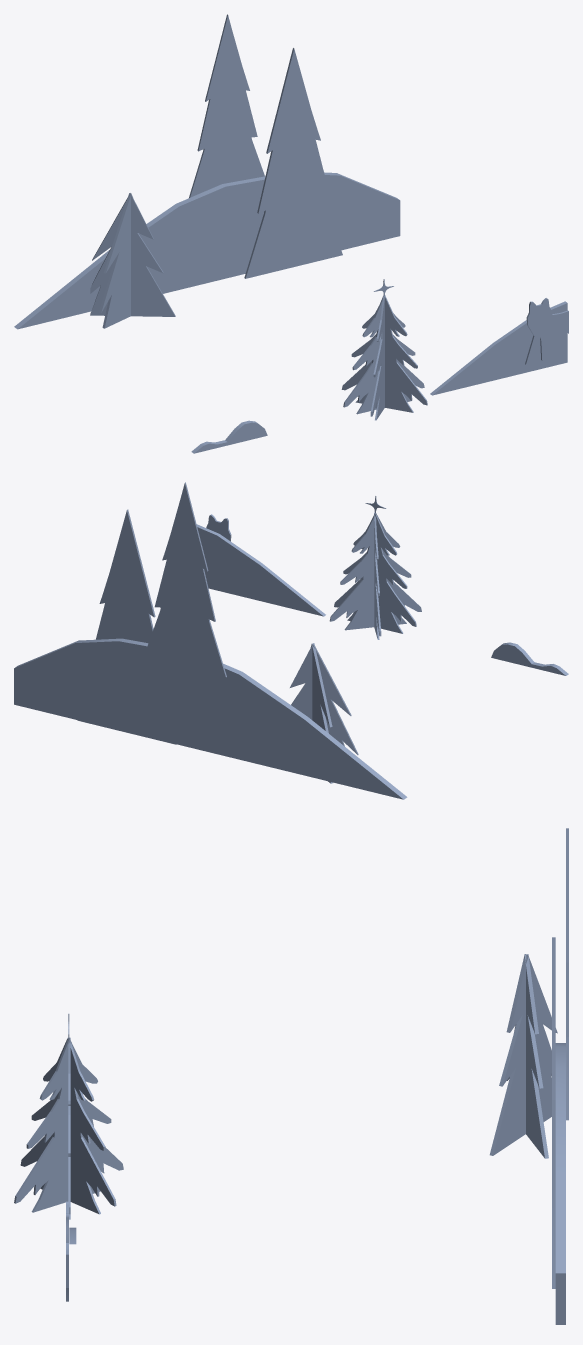
Rendered from frame_0041.glb.
The picture shows the model from 3 angles, top to bottom: view 1: azimuth 30°, elevation 25°; view 2: azimuth 150°, elevation 25°; view 3: azimuth 270°, elevation 25°; orthographic projection. The views are drawn at different scales.
Parts seen in each view (by area): view 1: export_trees_001.002; view 2: export_trees_001.002; view 3: export_trees_001.002.
Boxes of the visible parts, <box> form: export_trees_001.002: <box>14,14,568,453</box>; export_trees_001.002: <box>14,482,568,799</box>; export_trees_001.002: <box>14,828,568,1324</box>.
Size of the model in its own units: 0.4075 by 0.2681 by 0.3523.
